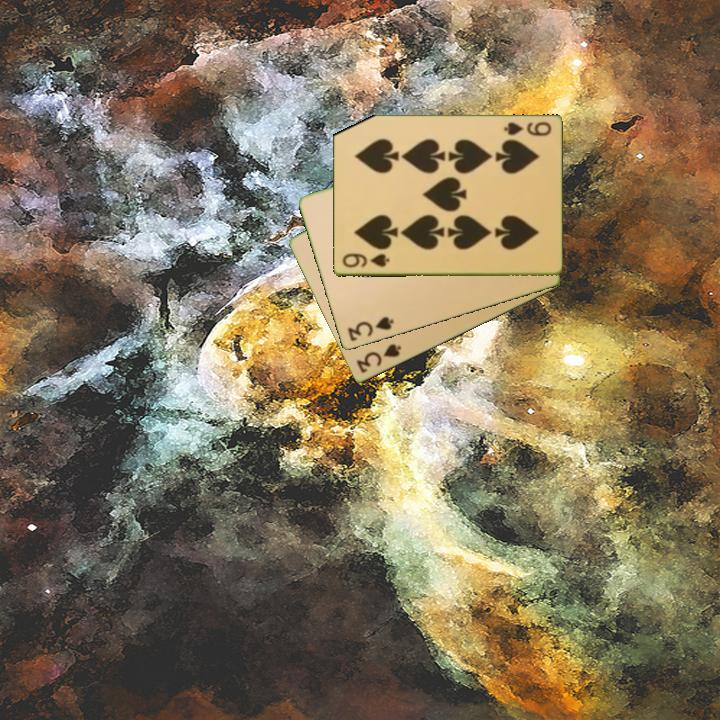3s: (353, 340, 404, 376), (344, 313, 397, 344)
9s: (339, 250, 392, 271), (500, 119, 554, 139)
